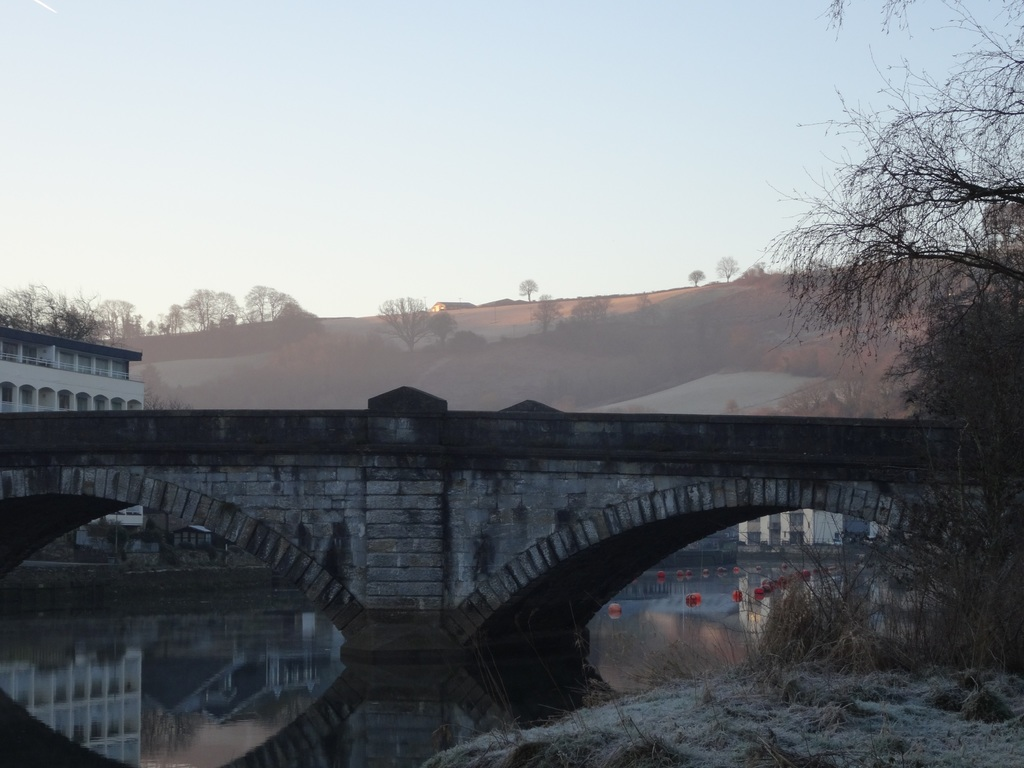Tree: (761, 0, 1023, 679), (0, 282, 101, 343), (366, 294, 434, 350), (979, 191, 1023, 243), (179, 282, 215, 332), (96, 295, 136, 337), (240, 280, 275, 327), (531, 290, 560, 332), (269, 286, 302, 320), (155, 303, 184, 335), (428, 311, 455, 344), (712, 253, 739, 286), (215, 290, 243, 321), (515, 278, 540, 302), (684, 268, 709, 289)
